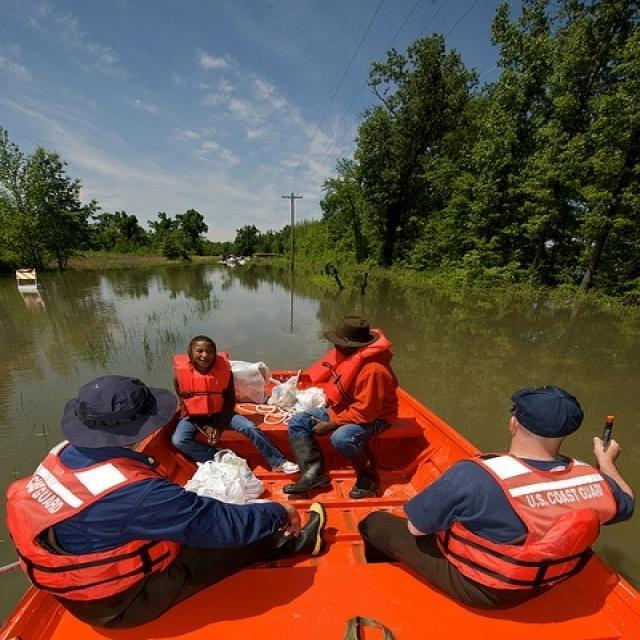rescuer: (27, 368, 166, 608), (456, 378, 608, 597), (316, 306, 406, 450)
